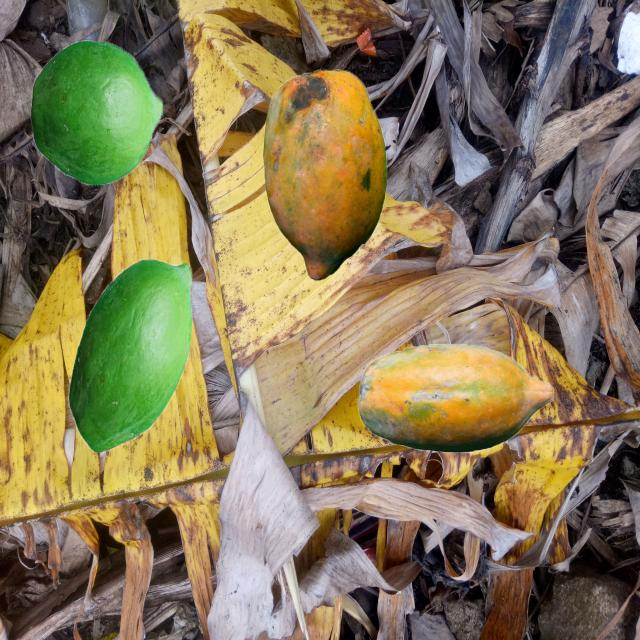Pepaya rippen: (248, 67, 392, 291), (367, 330, 558, 472)
Pepaya unrippen: (56, 255, 206, 460), (18, 40, 173, 194)
